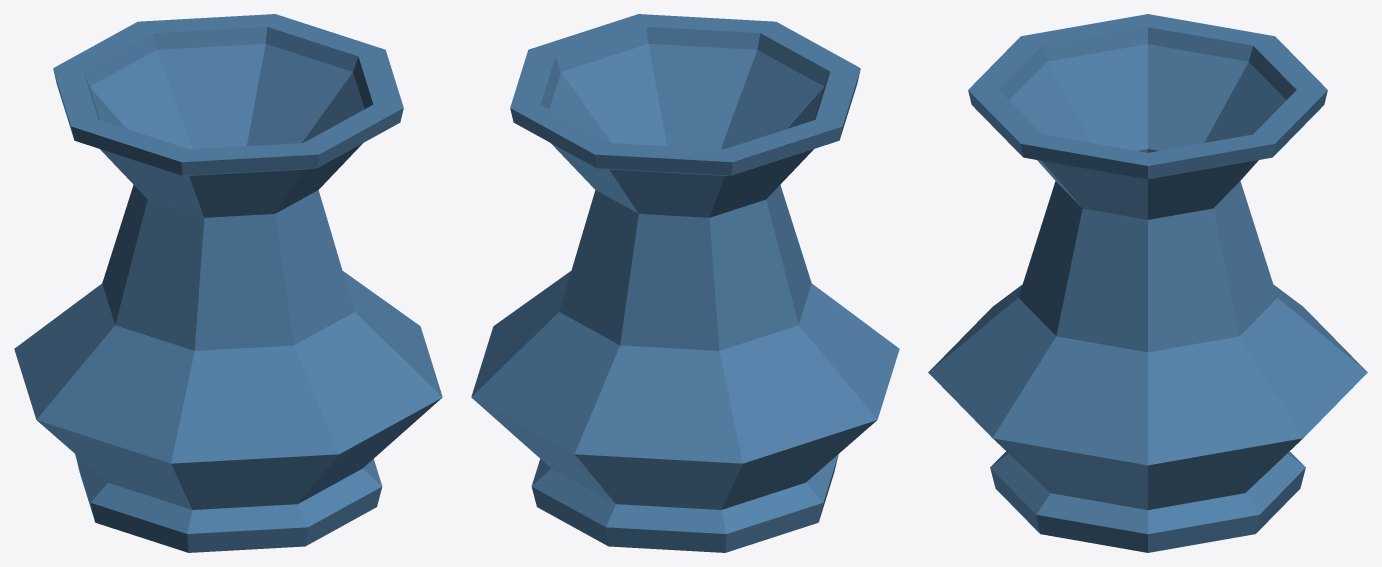
Rendered from qt-vase2.glb.
The picture shows the model from 3 angles, left to right: view 1: azimuth 30°, elevation 25°; view 2: azimuth 150°, elevation 25°; view 3: azimuth 270°, elevation 25°; orthographic projection.
Parts seen in each view (by area): view 1: Vase2_Cylinder.005; view 2: Vase2_Cylinder.005; view 3: Vase2_Cylinder.005.
Boxes of the visible parts, box(x1,y1,x2,y2) form: Vase2_Cylinder.005: box(14, 14, 442, 552); Vase2_Cylinder.005: box(471, 14, 899, 552); Vase2_Cylinder.005: box(928, 14, 1367, 552).
Bounding box in the file's own units: 1 × 1 × 1.
